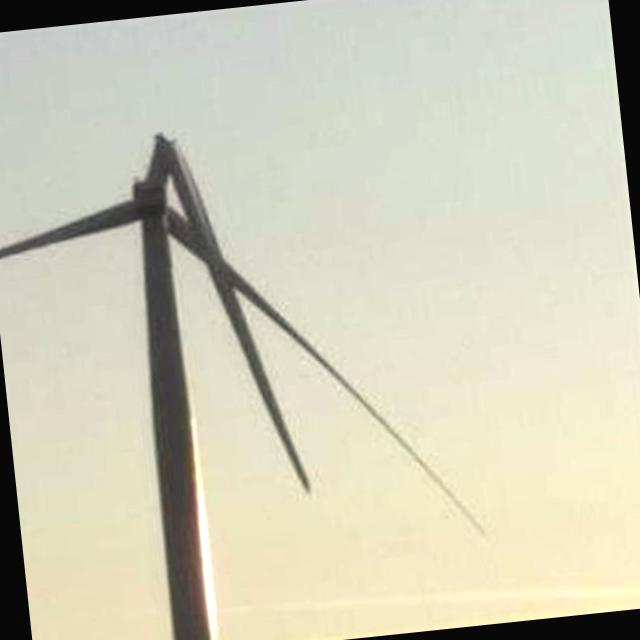crack: (119, 111, 316, 510)
